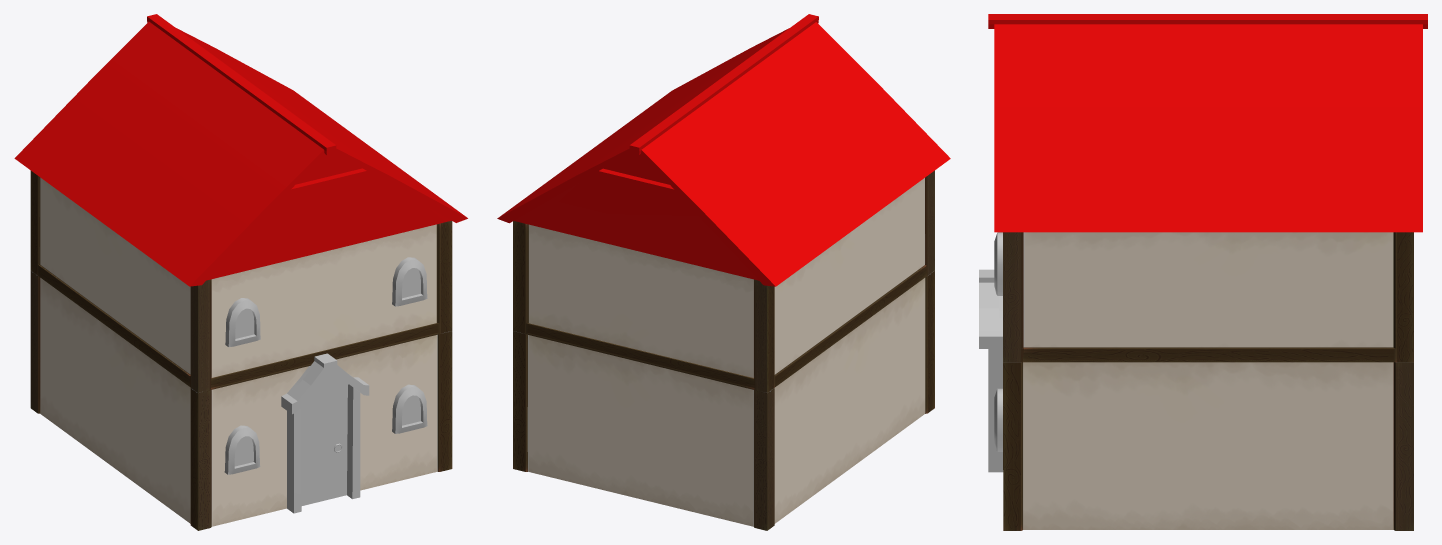
The model's file is house1.fbx.
3 renders of one model, left to right at view 1: azimuth 30°, elevation 25°; view 2: azimuth 150°, elevation 25°; view 3: azimuth 270°, elevation 25°, orthographic. The views are drawn at different scales.
Parts seen in each view (by area): view 1: Village_Door_Roofed_3; view 2: Village_Door_Roofed_3; view 3: Village_Door_Roofed_3.
Part boxes in pixels (<box>): Village_Door_Roofed_3: <box>14,14,467,530</box>; Village_Door_Roofed_3: <box>497,14,950,530</box>; Village_Door_Roofed_3: <box>979,14,1427,530</box>.
Bounding box in the file's own units: 549 × 673 × 624.
